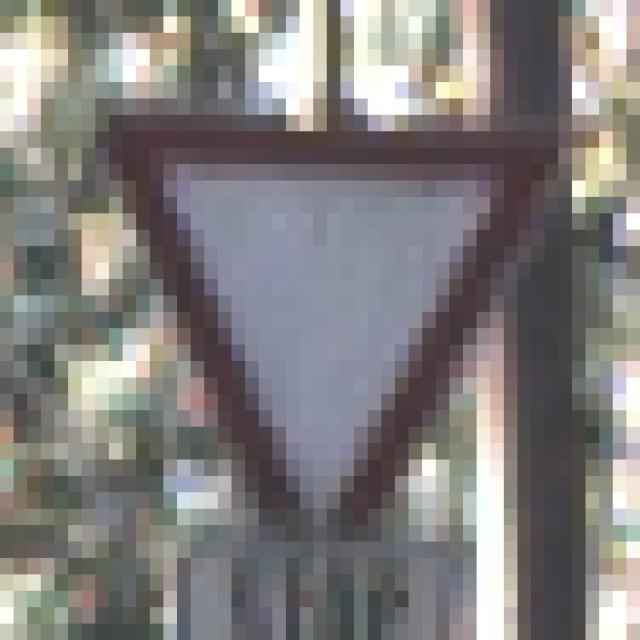Give Way: (69, 83, 573, 559)
